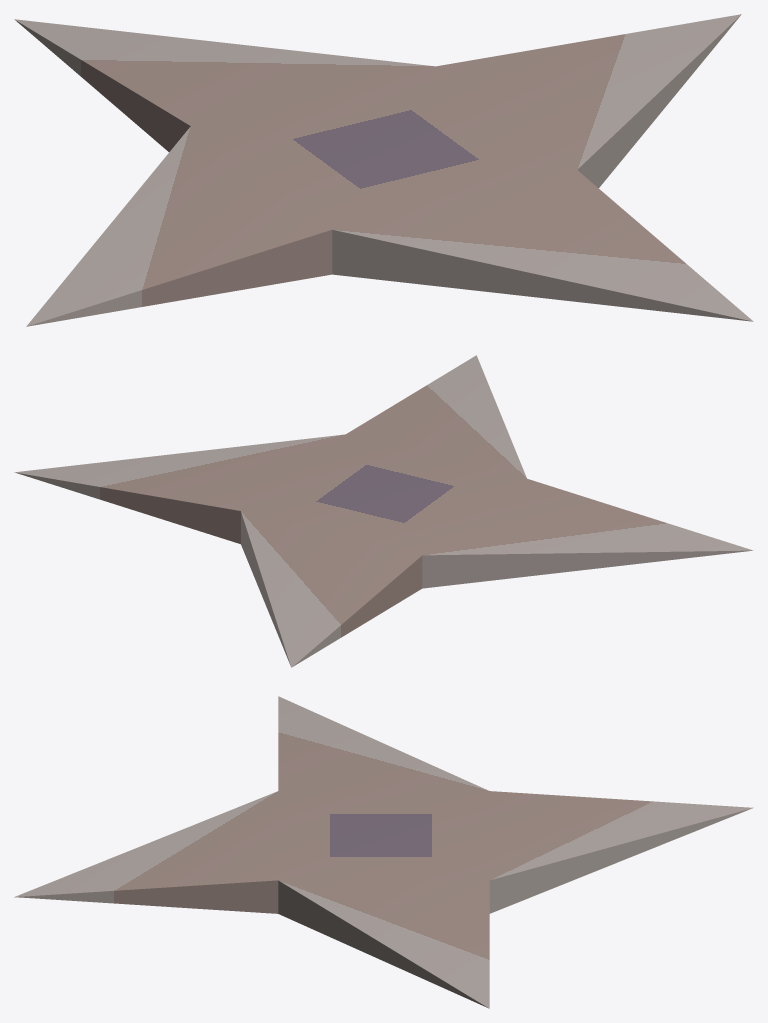
The model's file is 004a_Shuriken.glb.
3 renders of one model, top to bottom at view 1: azimuth 30°, elevation 25°; view 2: azimuth 150°, elevation 25°; view 3: azimuth 270°, elevation 25°, orthographic. The views are drawn at different scales.
Visible parts, largest first — view 1: part_0; view 2: part_0; view 3: part_0.
Part boxes in pixels (x1=…): part_0: x1=14, y1=14, x2=753, y2=326; part_0: x1=14, y1=355, x2=753, y2=667; part_0: x1=14, y1=696, x2=753, y2=1008.
Size of the model in its own units: 0.14 by 0.007 by 0.14.
Materials: 1 (1 with a texture image).
